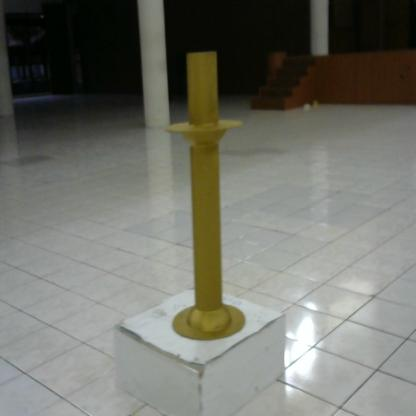pole: (160, 41, 252, 352)
